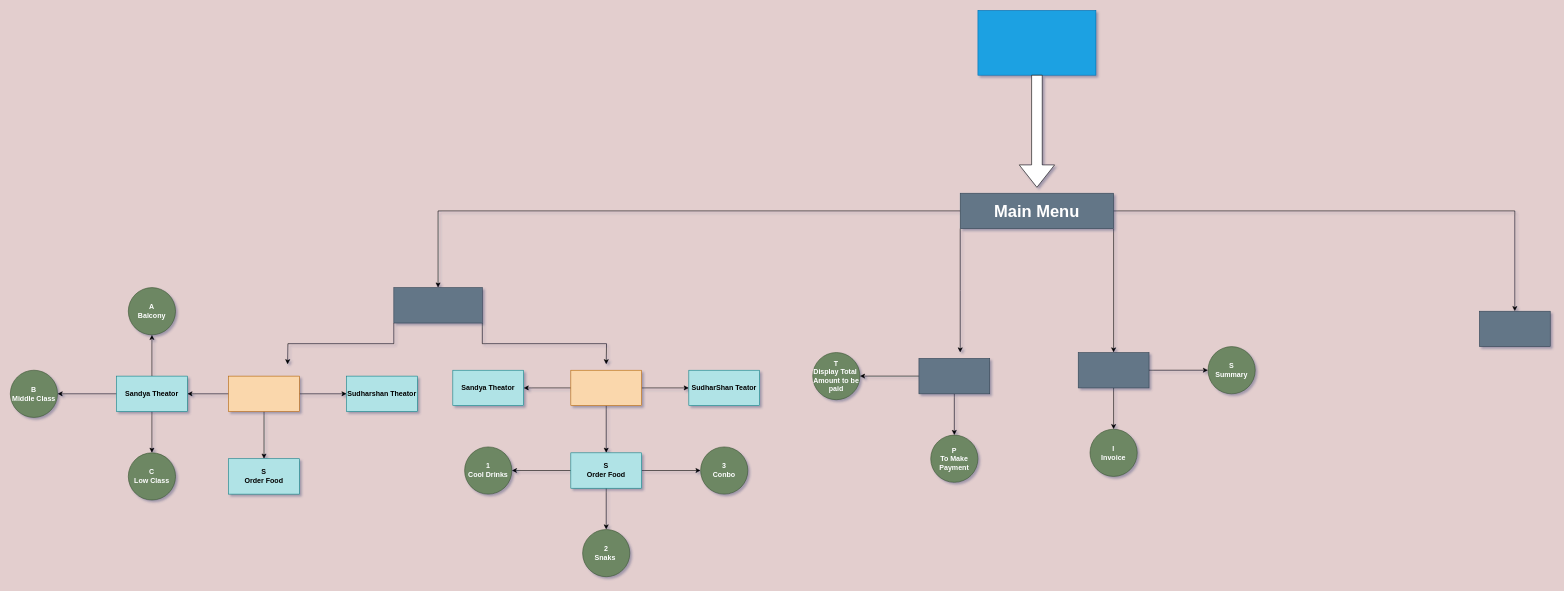
Some shapes in this 1564 by 591 pixel diagram are drawn without their labels. Here are the shapes that lost their labels. From the top down, the centre of each, then its label:
At point (1036, 42): "USER".
At point (437, 305): "B Booking Your Ticket".
At point (1514, 329): "Q Quit Module".
At point (606, 388): "Salaar".
At point (954, 376): "P Payment Module".
At point (1113, 370): "R Repoort module".
At point (263, 394): "Kakkii".
